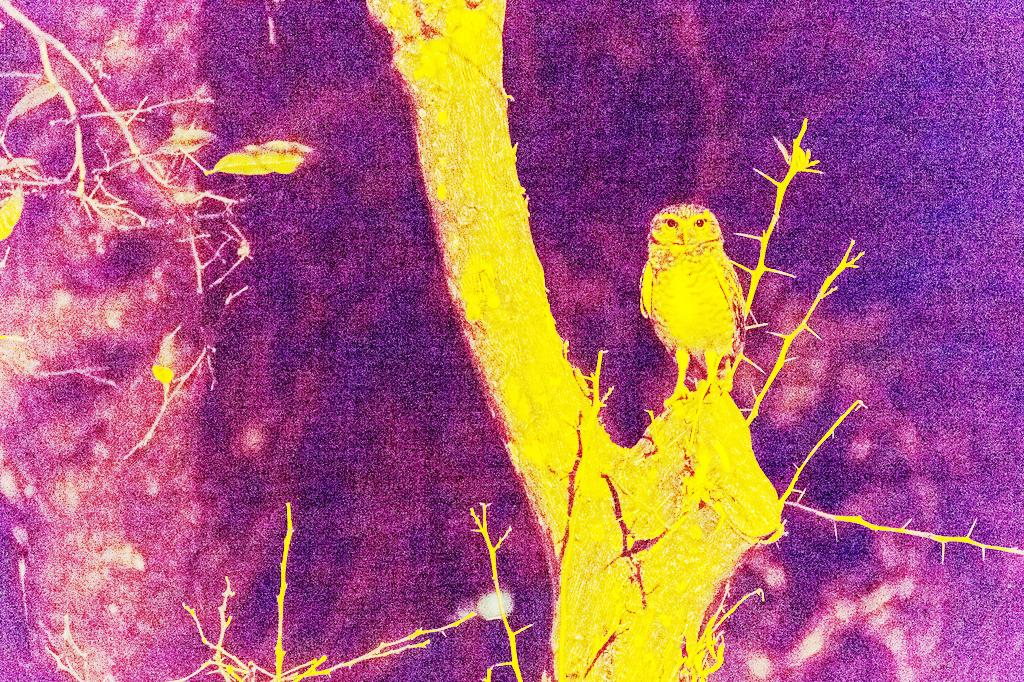Owl: (640, 204, 748, 410)
